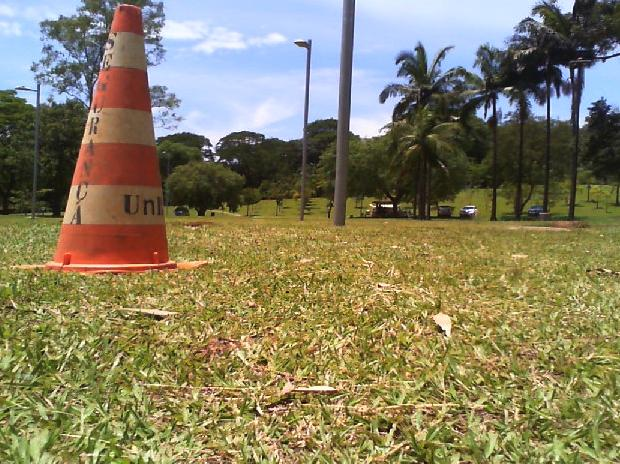0 cone: (19, 4, 207, 269)
